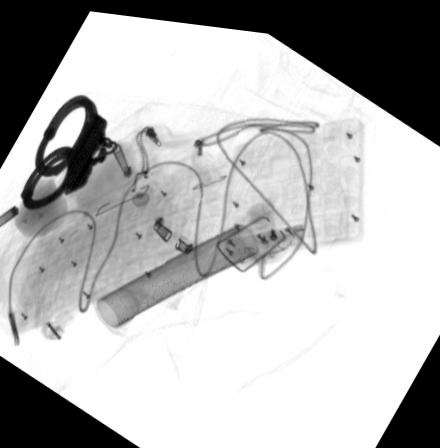Bullet: (0, 204, 19, 226)
HandCuffs: (19, 93, 119, 209)
